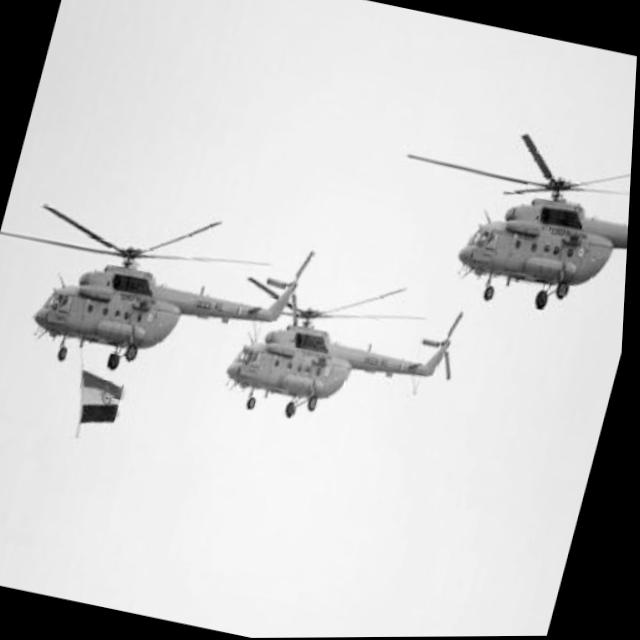helikopter: (0, 171, 329, 429), (202, 256, 489, 472), (405, 91, 636, 349)
